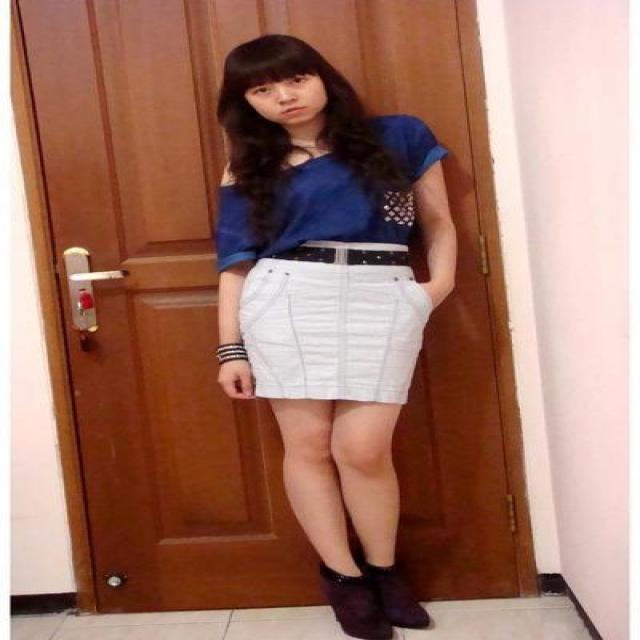jacket: (220, 162, 233, 186)
shirt: (214, 115, 440, 276)
shoe: (320, 550, 432, 639)
skirt: (250, 244, 440, 401)
